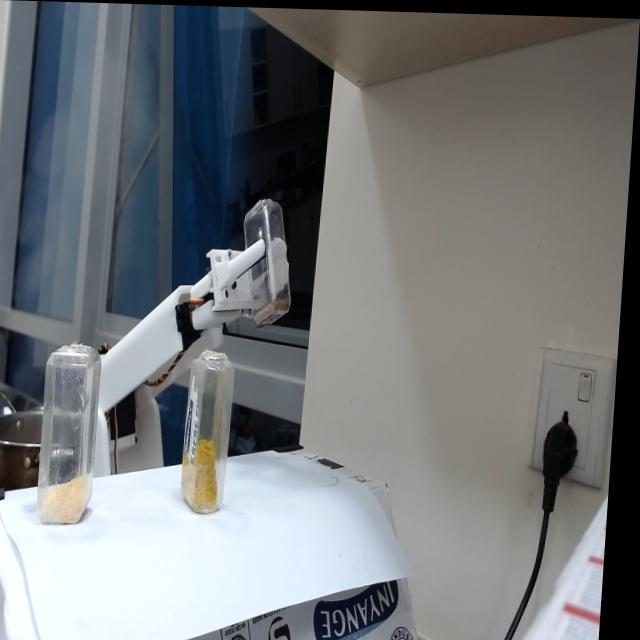cooking_pot: (0, 400, 48, 479)
curry_powder: (186, 445, 229, 513)
garlic_powder: (49, 491, 93, 526)
maggie_open: (260, 298, 295, 327)
